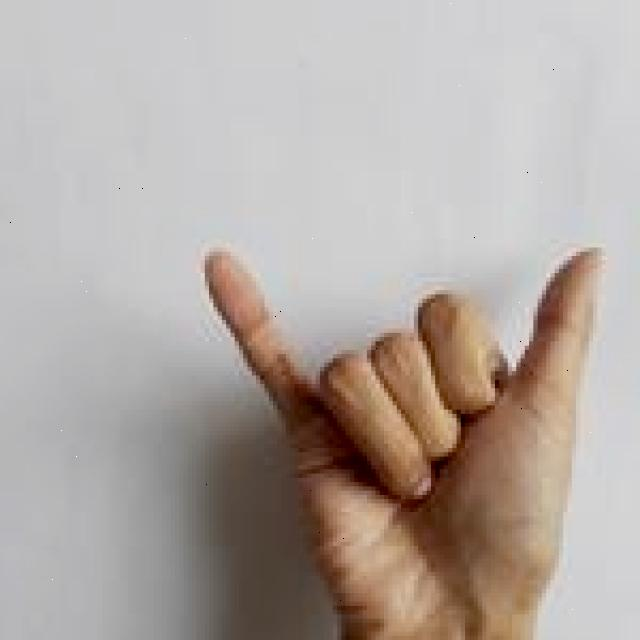Y: (197, 237, 614, 640)
